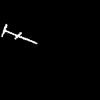double_crochet: (2, 24, 36, 43)
